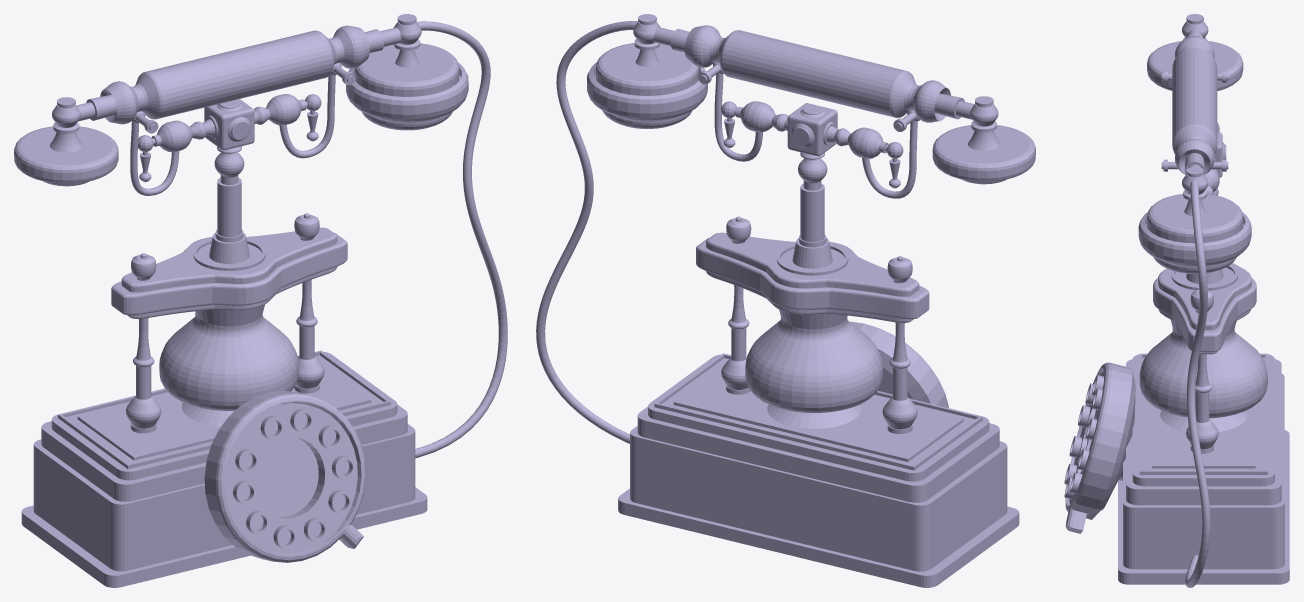
The picture shows the model from 3 angles, left to right: view 1: azimuth 30°, elevation 25°; view 2: azimuth 150°, elevation 25°; view 3: azimuth 270°, elevation 25°; orthographic projection. The views are drawn at different scales.
Parts seen in each view (by area): view 1: defaultMaterial_15, defaultMaterial_8, defaultMaterial_2, defaultMaterial_12, defaultMaterial_13, defaultMaterial_14, defaultMaterial_6, defaultMaterial_1, defaultMaterial_10, defaultMaterial_5, defaultMaterial_4, defaultMaterial_3 (+3 smaller); view 2: defaultMaterial_15, defaultMaterial_8, defaultMaterial_12, defaultMaterial_14, defaultMaterial_13, defaultMaterial_6, defaultMaterial_10, defaultMaterial_5, defaultMaterial_4, defaultMaterial_3, defaultMaterial_11, defaultMaterial_2 (+1 smaller); view 3: defaultMaterial_15, defaultMaterial_12, defaultMaterial_6, defaultMaterial_14, defaultMaterial_2, defaultMaterial_8, defaultMaterial_13, defaultMaterial_3, defaultMaterial_5, defaultMaterial_4, defaultMaterial, defaultMaterial_10 (+2 smaller).
Part boxes in pixels (x1=…): defaultMaterial_15: x1=21, y1=351, x2=427, y2=587; defaultMaterial_8: x1=86, y1=25, x2=383, y2=124; defaultMaterial_2: x1=204, y1=390, x2=365, y2=562; defaultMaterial_12: x1=159, y1=305, x2=298, y2=426; defaultMaterial_13: x1=111, y1=227, x2=347, y2=318; defaultMaterial_14: x1=58, y1=350, x2=390, y2=468; defaultMaterial_6: x1=346, y1=14, x2=468, y2=130; defaultMaterial_1: x1=226, y1=403, x2=357, y2=552; defaultMaterial_10: x1=130, y1=66, x2=355, y2=195; defaultMaterial_5: x1=14, y1=97, x2=118, y2=186; defaultMaterial_4: x1=126, y1=213, x2=324, y2=433; defaultMaterial_3: x1=415, y1=21, x2=507, y2=458; defaultMaterial_15: x1=618, y1=354, x2=1019, y2=587; defaultMaterial_8: x1=670, y1=25, x2=964, y2=122; defaultMaterial_12: x1=745, y1=309, x2=882, y2=428; defaultMaterial_14: x1=654, y1=353, x2=982, y2=470; defaultMaterial_13: x1=696, y1=232, x2=929, y2=322; defaultMaterial_6: x1=587, y1=14, x2=707, y2=128; defaultMaterial_10: x1=698, y1=64, x2=917, y2=198; defaultMaterial_5: x1=932, y1=96, x2=1035, y2=184; defaultMaterial_4: x1=721, y1=216, x2=917, y2=433; defaultMaterial_3: x1=536, y1=21, x2=638, y2=443; defaultMaterial_11: x1=777, y1=152, x2=848, y2=275; defaultMaterial_2: x1=850, y1=321, x2=948, y2=407; defaultMaterial_15: x1=1118, y1=354, x2=1289, y2=584; defaultMaterial_12: x1=1139, y1=320, x2=1267, y2=431; defaultMaterial_6: x1=1138, y1=167, x2=1251, y2=273; defaultMaterial_14: x1=1139, y1=353, x2=1267, y2=474; defaultMaterial_2: x1=1065, y1=362, x2=1135, y2=533; defaultMaterial_8: x1=1172, y1=33, x2=1217, y2=174; defaultMaterial_13: x1=1153, y1=262, x2=1256, y2=354; defaultMaterial_3: x1=1185, y1=180, x2=1210, y2=587; defaultMaterial_5: x1=1147, y1=14, x2=1243, y2=90; defaultMaterial_4: x1=1186, y1=289, x2=1218, y2=453; defaultMaterial: x1=1065, y1=375, x2=1103, y2=498; defaultMaterial_10: x1=1161, y1=71, x2=1228, y2=194.
Bounding box in the file's own units: 457 × 414 × 197.
